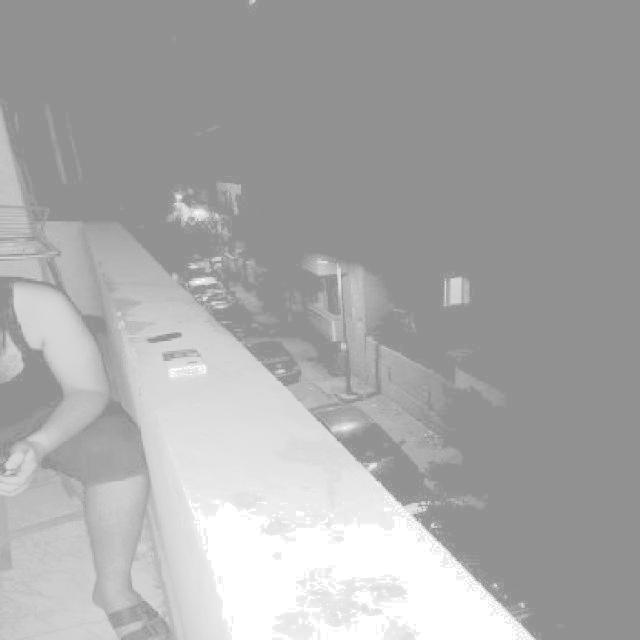Light: (315, 259, 353, 397)
Person: (0, 265, 169, 640)
